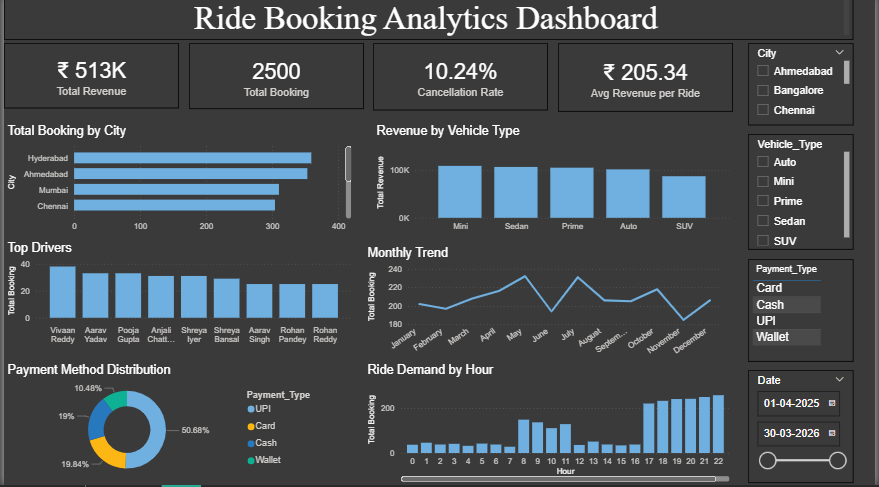

The page's visual inventory and layout, read from the dashboard file:
{"tool":"powerbi","page":{"name":"Page 1","canvas":[1280,720],"ordinal":0},"visuals":[{"type":"card","fields":{"Values":["uber_project customers.Total Revenue"]},"box":[0,70.6,257,95.7],"z":0},{"type":"card","fields":{"Values":["uber_project customers.Total Booking"]},"box":[272.1,70.6,257,97.4],"z":1000},{"type":"card","fields":{"Values":["uber_project customers.Cancellation Rate"]},"box":[542.6,70.6,257,99.1],"z":2000},{"type":"lineChart","title":"Monthly Trend","fields":{"Category":["uber_project maintable.Date.Variation.Date Hierarchy.Month"],"Y":["uber_project customers.Total Booking"]},"box":[528.8,367.5,528.8,171.8],"z":3000},{"type":"columnChart","title":"Revenue by Vehicle Type","fields":{"Category":["uber_project vehicles.Vehicle_Type"],"Y":["uber_project customers.Total Revenue"]},"box":[542.2,188.2,528.8,167.3],"z":4000},{"type":"columnChart","title":"Top Drivers","fields":{"Category":["uber_project drivers.Driver_Name"],"Y":["uber_project customers.Total Booking"]},"box":[0,359.5,515.7,161.3],"z":5000},{"type":"donutChart","title":"Payment Method Distribution","fields":{"Category":["uber_project maintable.Payment_Type"],"Y":["CountNonNull(uber_project maintable.Payment_Type)"]},"box":[0,539.3,473.5,177.8],"z":6000},{"type":"columnChart","title":"Ride Demand by Hour","fields":{"Category":["uber_project maintable.Hour"],"Y":["uber_project customers.Total Booking"]},"box":[529,539.3,542.2,180.7],"z":7000},{"type":"slicer","fields":{"Values":["uber_project customers.City"]},"box":[1093.5,70.6,154.5,120.9],"z":8000},{"type":"slicer","fields":{"Values":["uber_project vehicles.Vehicle_Type"]},"box":[1093.5,204.9,154.5,169.7],"z":9000},{"type":"tableEx","fields":{"Values":["uber_project maintable.Payment_Type"]},"box":[1093.5,388,154.5,151.2],"z":10000},{"type":"slicer","fields":{"Values":["uber_project maintable.Date"]},"box":[1093.5,551,154.5,166.3],"z":11000},{"type":"textbox","box":[0,0,1248.1,65.5],"z":12000},{"type":"card","fields":{"Values":["uber_project customers.Avg Revenue per Ride"]},"box":[814.7,70.6,257,100.8],"z":13000},{"type":"barChart","fields":{"Category":["uber_project customers.City"],"Y":["uber_project customers.Total Booking"]},"box":[0,188.2,515.4,167.3],"z":14000}]}

Visuals, with their boxes in screenshot pixels (x1, y1, x2, y2), scaled from the page's 1280x720 canvas onto the 879x487 screenshot:
card - uber_project customers.Total Revenue: box(0, 48, 176, 112)
card - uber_project customers.Total Booking: box(187, 48, 363, 114)
card - uber_project customers.Cancellation Rate: box(373, 48, 549, 115)
"Monthly Trend" lineChart: box(363, 249, 726, 365)
"Revenue by Vehicle Type" columnChart: box(372, 127, 735, 240)
"Top Drivers" columnChart: box(0, 243, 354, 352)
"Payment Method Distribution" donutChart: box(0, 365, 325, 485)
"Ride Demand by Hour" columnChart: box(363, 365, 736, 486)
slicer - uber_project customers.City: box(751, 48, 857, 130)
slicer - uber_project vehicles.Vehicle_Type: box(751, 139, 857, 253)
tableEx - uber_project maintable.Payment_Type: box(751, 262, 857, 365)
slicer - uber_project maintable.Date: box(751, 373, 857, 485)
textbox: box(0, 0, 857, 44)
card - uber_project customers.Avg Revenue per Ride: box(559, 48, 736, 116)
barChart - uber_project customers.City x uber_project customers.Total Booking: box(0, 127, 354, 240)
